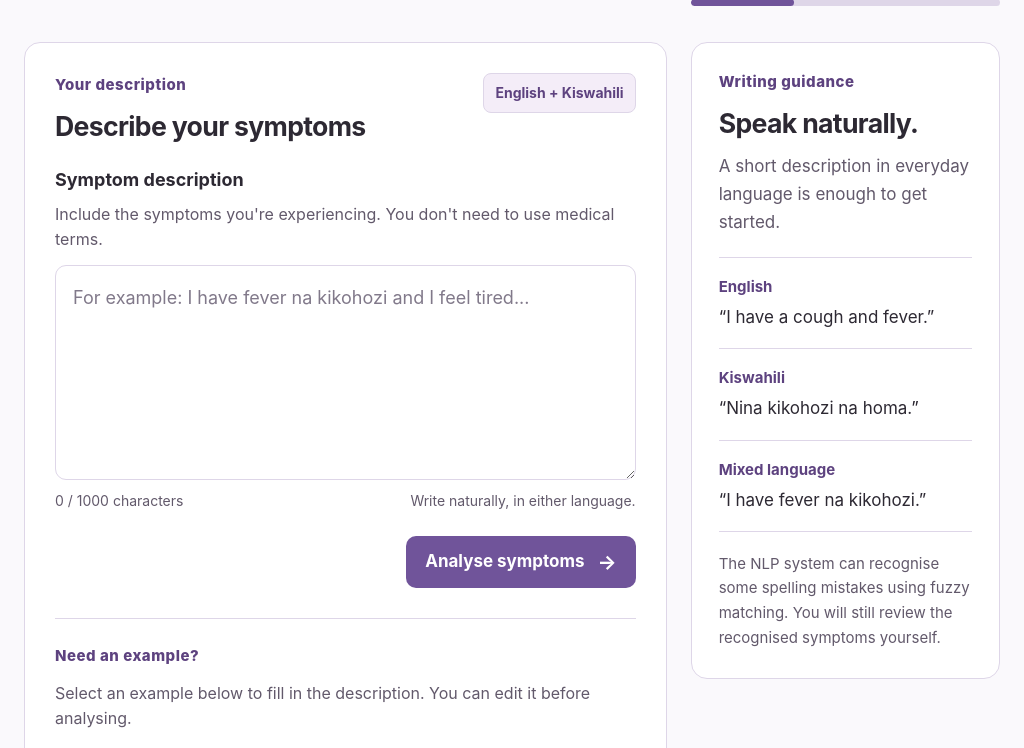
Scenario: symptom recognition request isolation › ignores an older response after the description changes
This screenshot has width=1024, height=748.
(page scrolled)
Type "I have a cough" into the text box labelled "Symptom description". click: coordinates (345, 372)
box: x1=55 y1=265 x2=636 y2=480
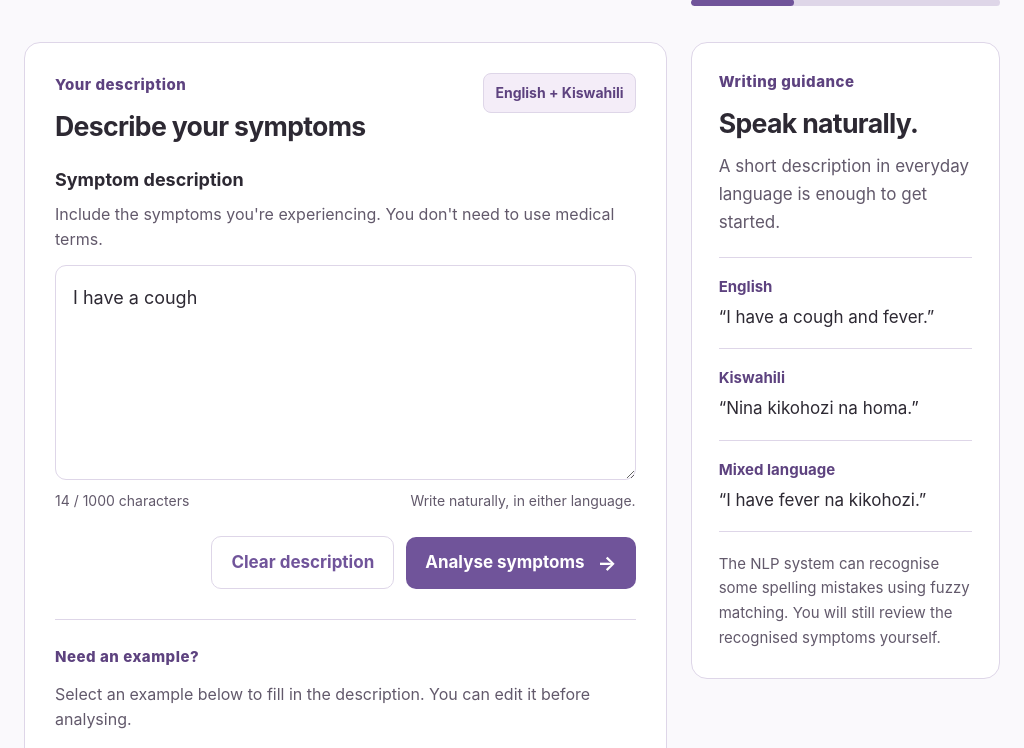
Click the button "Analyse symptoms →". click: coordinates (521, 562)
box: x1=406 y1=536 x2=636 y2=588
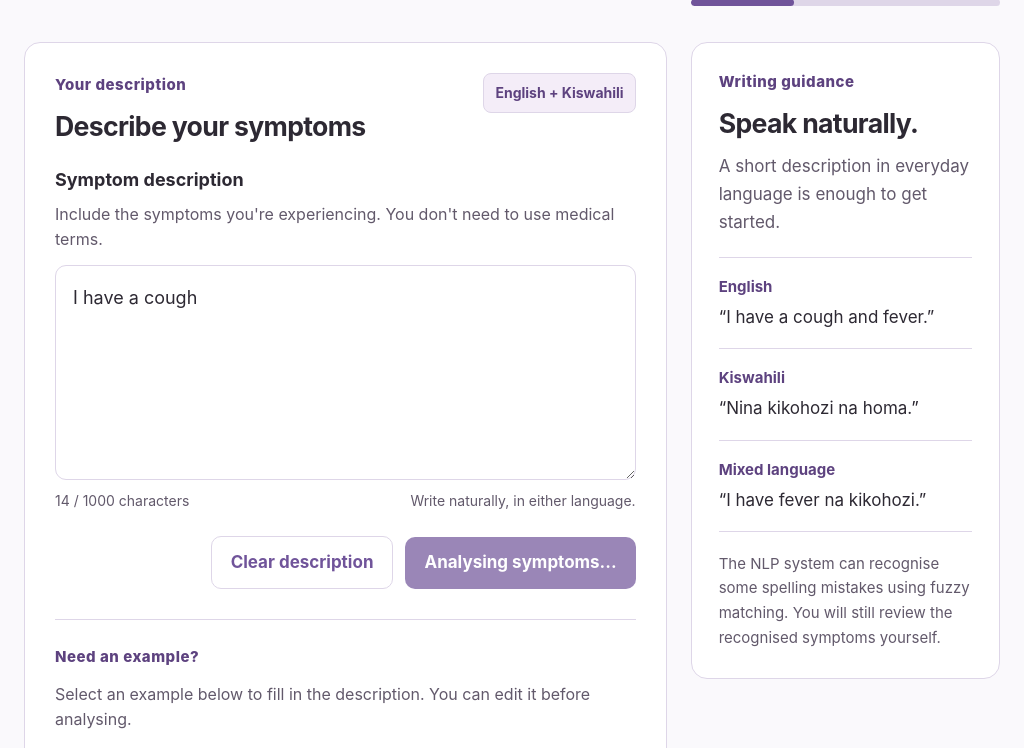
Now the button "Analysing symptoms..." is disabled, box x1=406 y1=536 x2=636 y2=588
Replace the text in the text box labelled "Symptom description" with "I have a fever". click: coordinates (345, 372)
box: x1=55 y1=265 x2=636 y2=480
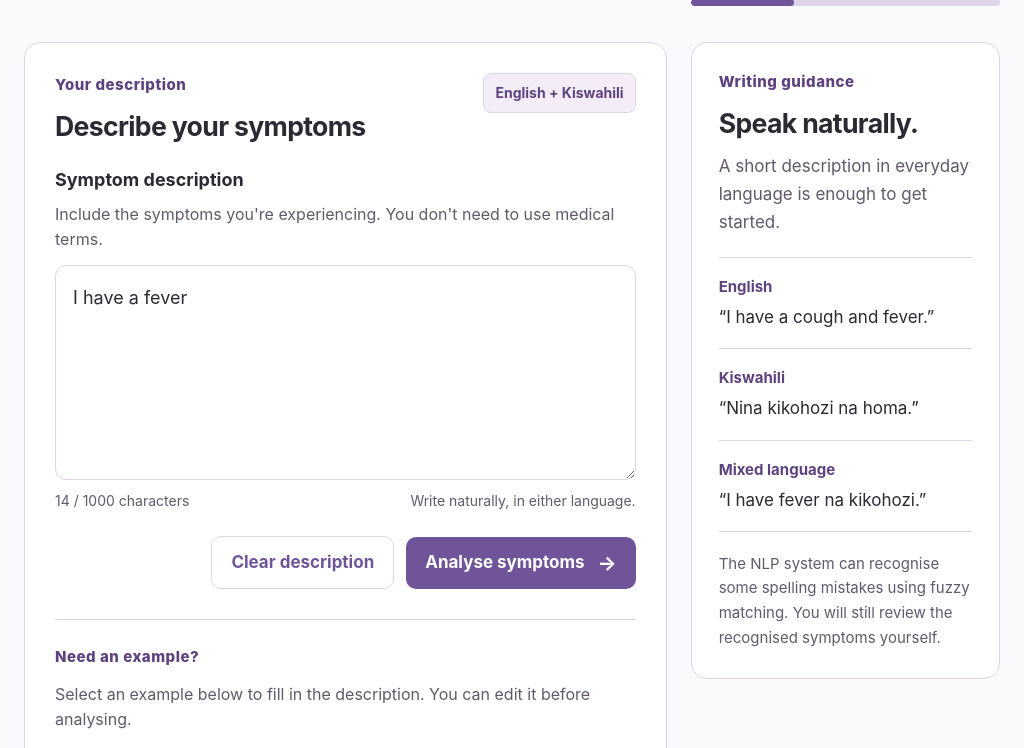
Now the button "Analyse symptoms →" is enabled, box x1=406 y1=536 x2=636 y2=588
